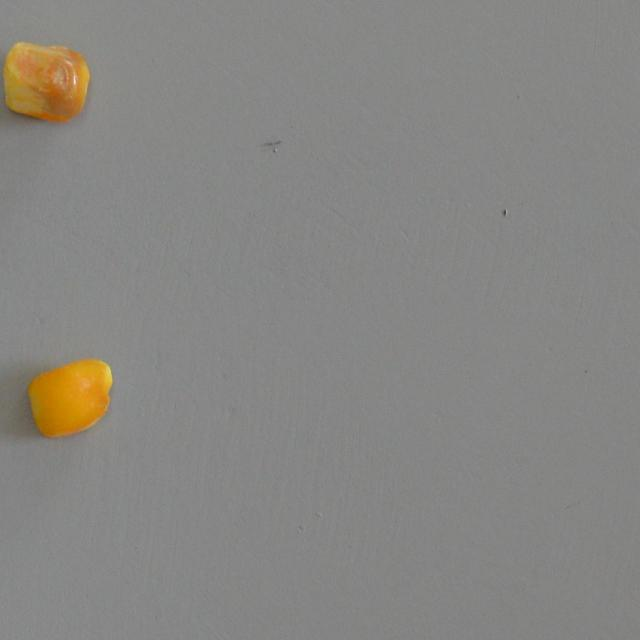dañado: (0, 38, 90, 128)
no_canjicado: (28, 358, 112, 437)
